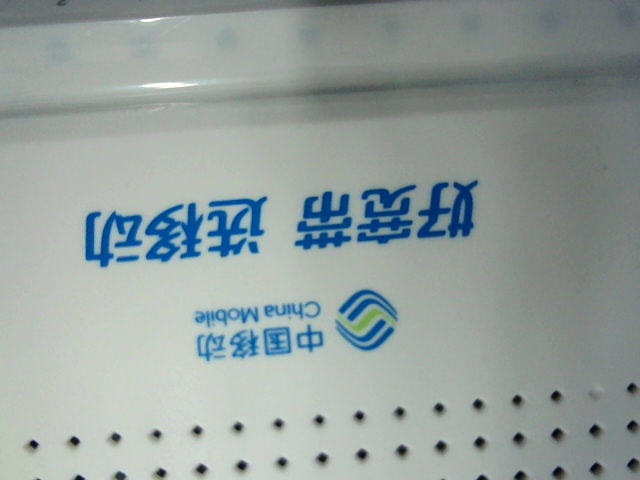AA_ChinaMobile: (64, 180, 490, 363)
